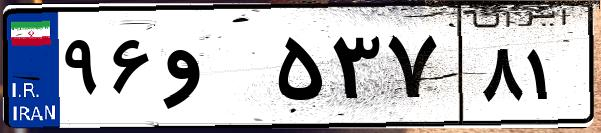1: (525, 38, 570, 115)
3: (330, 28, 385, 110)
5: (270, 28, 330, 110)
6: (110, 28, 158, 98)
7: (385, 28, 445, 110)
8: (475, 38, 525, 113)
9: (57, 26, 110, 100)
و: (158, 20, 270, 120)
